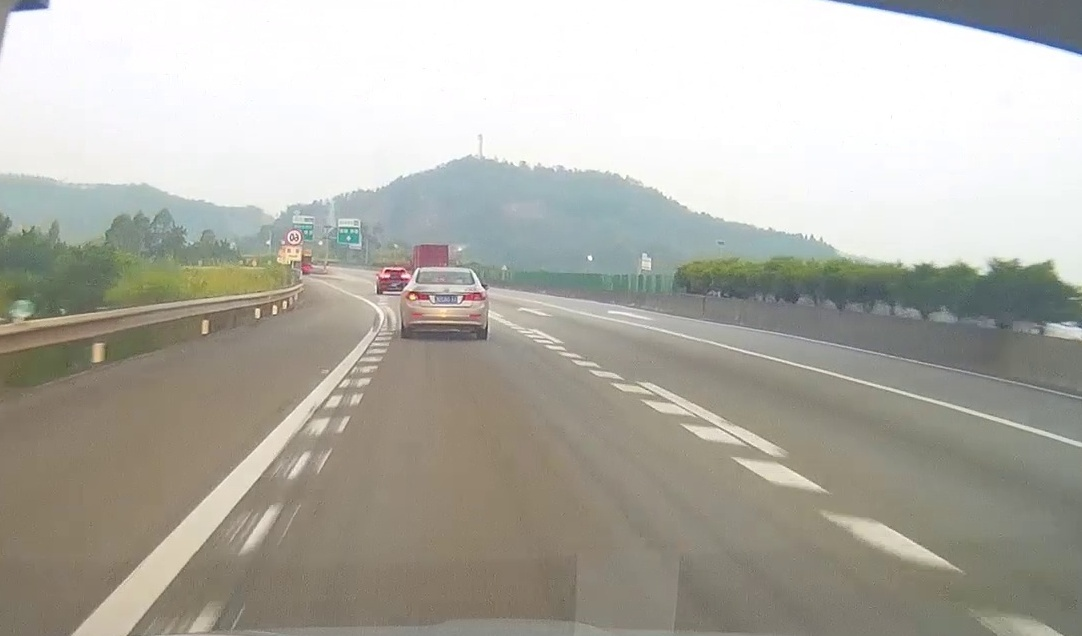L_light: (405, 291, 430, 301)
R_light: (462, 292, 487, 301)
T_light: (440, 282, 455, 284)
day-left: (399, 267, 488, 339)
